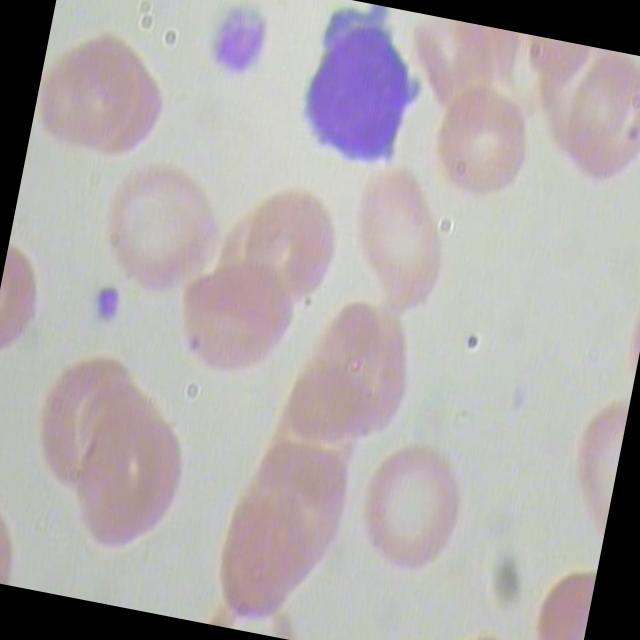Platelets: (203, 0, 275, 92), (76, 272, 126, 333)
RBC: (60, 398, 198, 574), (84, 151, 234, 301), (343, 438, 478, 600), (333, 156, 463, 320), (27, 18, 154, 169), (166, 255, 306, 390), (224, 182, 346, 316), (425, 78, 540, 210), (554, 46, 640, 202)
WBC: (269, 0, 437, 189)
